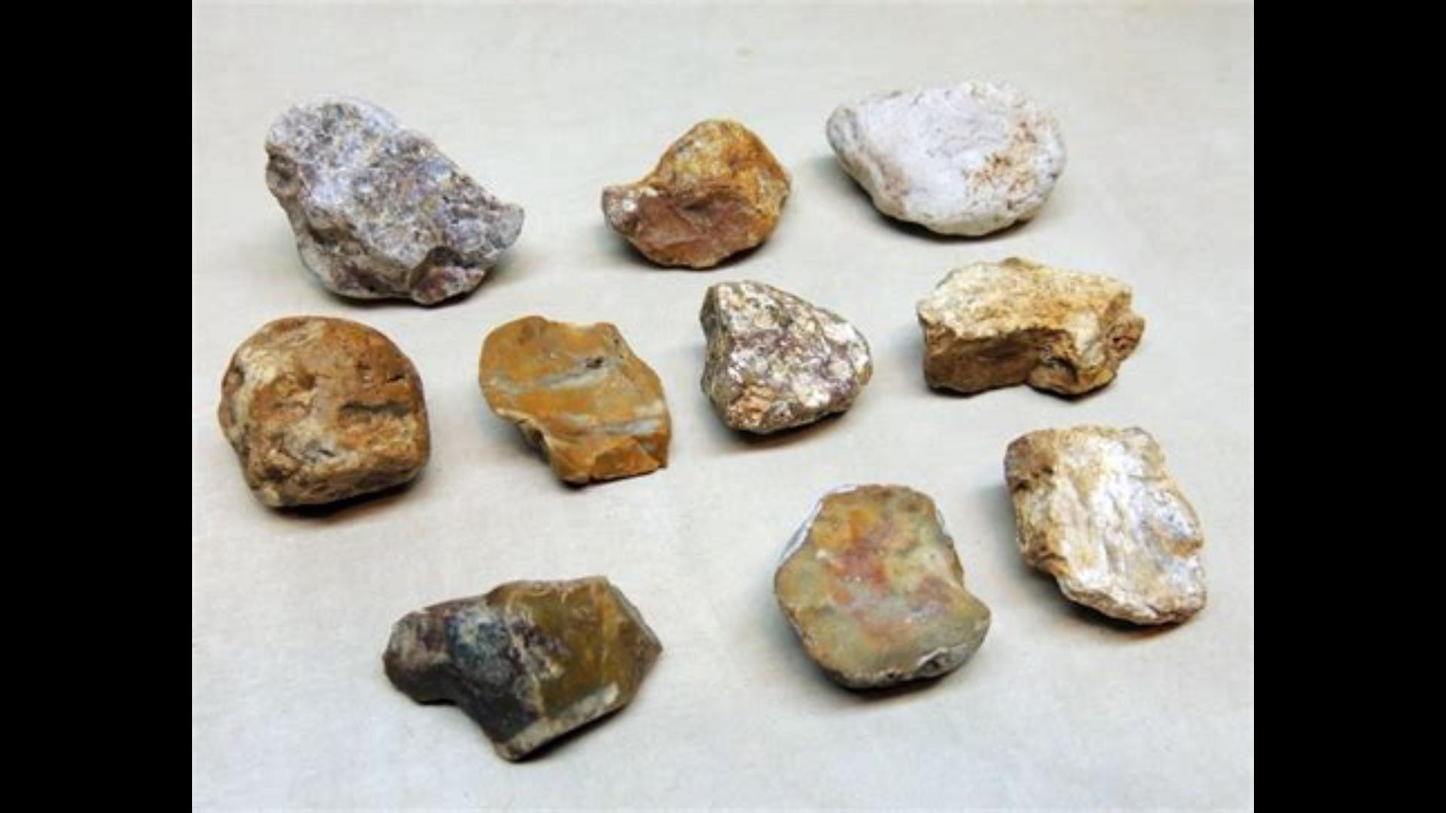rock: (385, 576, 660, 759), (268, 103, 519, 302), (775, 488, 987, 685), (219, 316, 427, 504), (1005, 426, 1200, 623), (828, 85, 1064, 235), (479, 316, 669, 479), (918, 258, 1142, 392), (602, 121, 786, 262), (701, 282, 871, 432)
